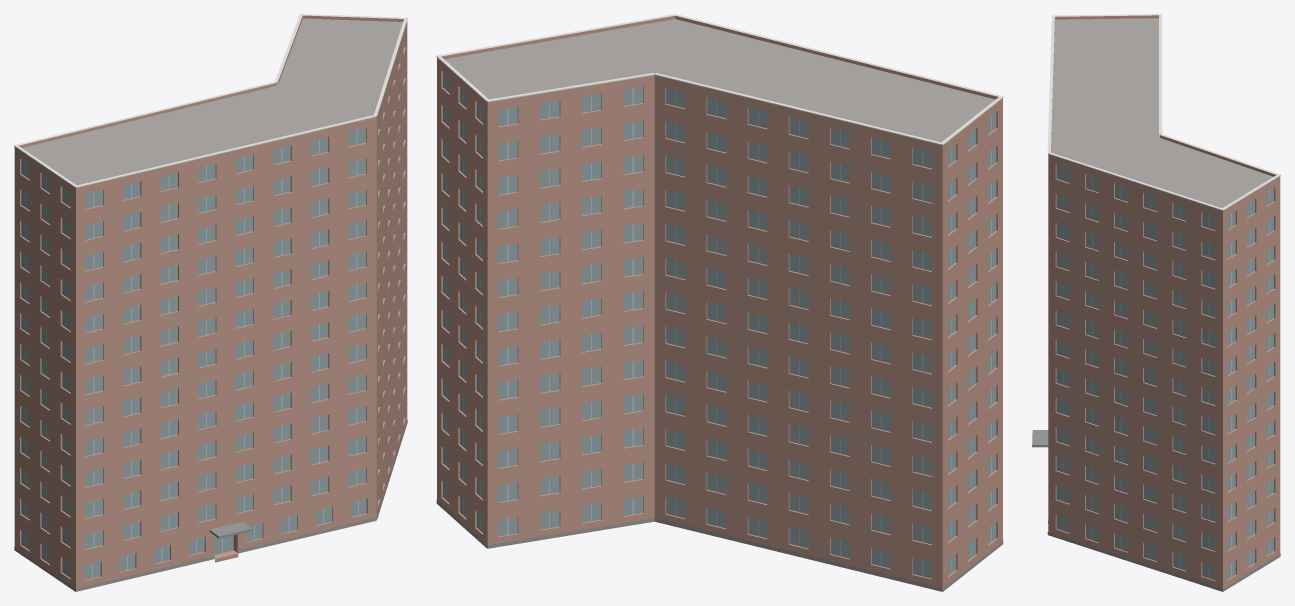
3 views of the same model, side by side, from view 1: azimuth 30°, elevation 25°; view 2: azimuth 150°, elevation 25°; view 3: azimuth 270°, elevation 25° (orthographic). The views are drawn at different scales.
Parts seen in each view (by area): view 1: b743641874__wall, b743641874__glass, b743641874__roof, b743641874__frame, b743641874__trim, b743641874__parapet, b743641874__base; view 2: b743641874__wall, b743641874__glass, b743641874__roof, b743641874__frame, b743641874__parapet, b743641874__trim, b743641874__base; view 3: b743641874__wall, b743641874__roof, b743641874__glass, b743641874__trim, b743641874__frame, b743641874__parapet, b743641874__base.
Part boxes in pixels (<box>): b743641874__wall: <box>14,21,407,591</box>; b743641874__glass: <box>21,37,404,579</box>; b743641874__roof: <box>22,18,402,185</box>; b743641874__frame: <box>25,130,358,578</box>; b743641874__trim: <box>14,14,407,187</box>; b743641874__parapet: <box>14,15,403,189</box>; b743641874__base: <box>14,420,407,591</box>; b743641874__wall: <box>437,59,1002,591</box>; b743641874__glass: <box>443,72,996,578</box>; b743641874__roof: <box>444,19,995,591</box>; b743641874__frame: <box>446,75,991,576</box>; b743641874__parapet: <box>437,15,1002,147</box>; b743641874__trim: <box>436,14,1003,145</box>; b743641874__base: <box>436,499,1003,591</box>; b743641874__wall: <box>1048,156,1280,591</box>; b743641874__roof: <box>1051,18,1273,207</box>; b743641874__glass: <box>1056,165,1273,579</box>; b743641874__trim: <box>1047,14,1280,210</box>; b743641874__frame: <box>1063,167,1269,578</box>; b743641874__parapet: <box>1048,15,1280,212</box>; b743641874__base: <box>1047,521,1280,591</box>.
Size of the model in its own units: 51.92 by 47.55 by 27.83.
